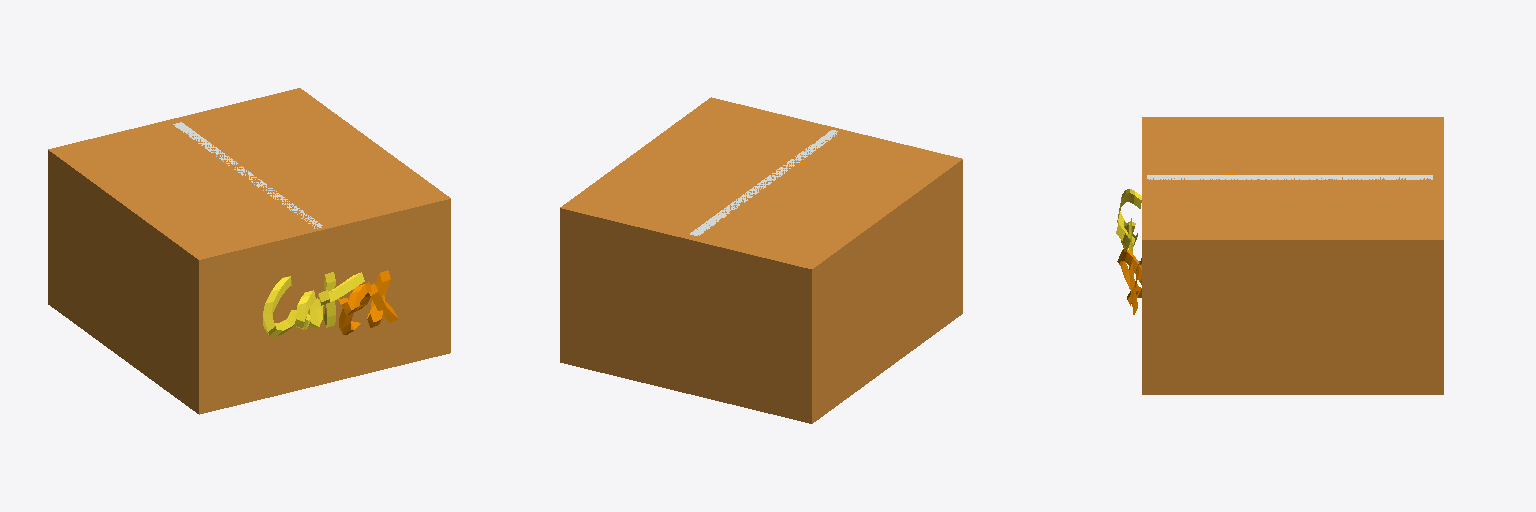
3 renders of one model, left to right at view 1: azimuth 30°, elevation 25°; view 2: azimuth 150°, elevation 25°; view 3: azimuth 270°, elevation 25°, orthographic.
Visible parts, largest first — view 1: group[number redacted], group[number redacted], group[number redacted], group[number redacted], group[number redacted], group[number redacted], group[number redacted], group[number redacted], group[number redacted], group[number redacted], group[number redacted]; view 2: group[number redacted], group[number redacted], group[number redacted], group[number redacted], group[number redacted], group[number redacted], group[number redacted]; view 3: group[number redacted], group[number redacted], group[number redacted], group[number redacted], group[number redacted], group[number redacted], group[number redacted].
Part boxes in pixels (bbox=[...]): group[number redacted]: bbox=[53, 94, 450, 267]; group[number redacted]: bbox=[193, 198, 443, 403]; group[number redacted]: bbox=[48, 150, 207, 404]; group[number redacted]: bbox=[48, 295, 450, 414]; group[number redacted]: bbox=[48, 88, 304, 297]; group[number redacted]: bbox=[297, 92, 450, 344]; group[number redacted]: bbox=[263, 276, 296, 336]; group[number redacted]: bbox=[338, 282, 371, 334]; group[number redacted]: bbox=[294, 290, 323, 329]; group[number redacted]: bbox=[173, 122, 322, 228]; group[number redacted]: bbox=[318, 272, 364, 305]; group[number redacted]: bbox=[560, 204, 817, 413]; group[number redacted]: bbox=[560, 97, 962, 273]; group[number redacted]: bbox=[803, 157, 960, 413]; group[number redacted]: bbox=[560, 304, 962, 423]; group[number redacted]: bbox=[719, 100, 962, 306]; group[number redacted]: bbox=[690, 130, 837, 235]; group[number redacted]: bbox=[569, 98, 719, 205]; group[number redacted]: bbox=[1142, 236, 1438, 384]; group[number redacted]: bbox=[1142, 117, 1443, 249]; group[number redacted]: bbox=[1142, 385, 1443, 394]; group[number redacted]: bbox=[1433, 117, 1443, 384]; group[number redacted]: bbox=[1147, 175, 1432, 179]; group[number redacted]: bbox=[1142, 117, 1152, 237]; group[number redacted]: bbox=[1142, 117, 1432, 121].
Bounding box in the file's own units: 0.53 × 0.31 × 0.5969.